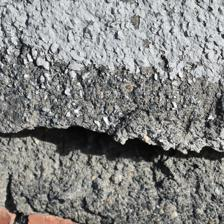Crack: (2, 57, 219, 116)
